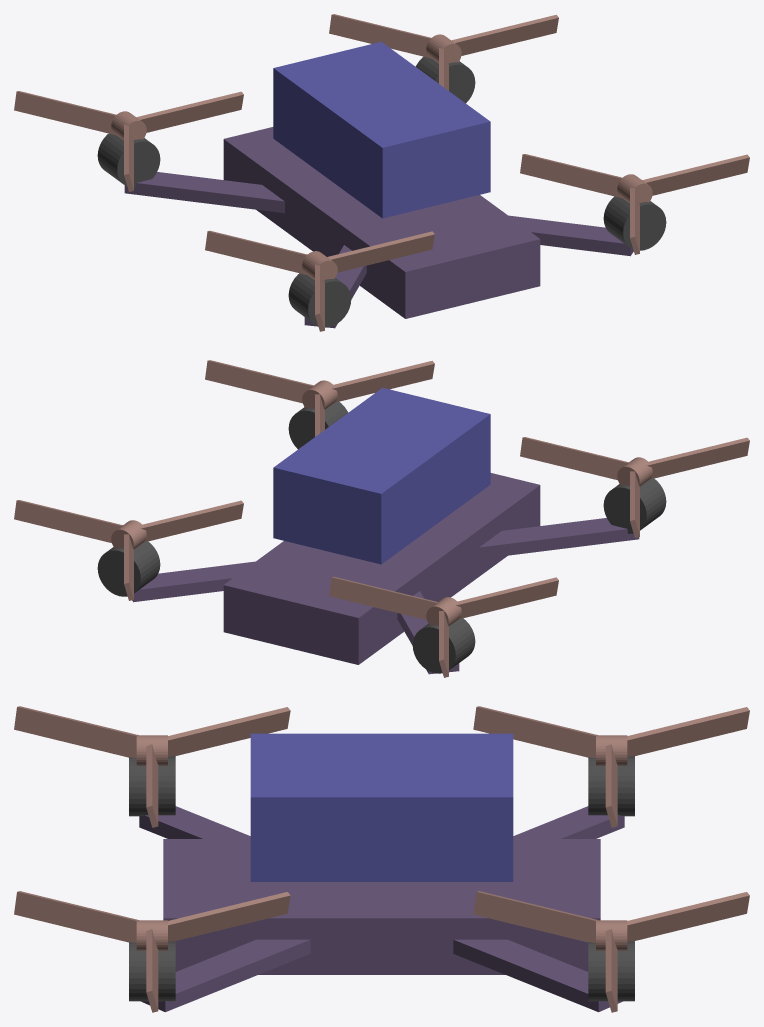
The model's file is Slicer SR5.glb.
3 renders of one model, top to bottom at view 1: azimuth 30°, elevation 25°; view 2: azimuth 150°, elevation 25°; view 3: azimuth 270°, elevation 25°, orthographic. The views are drawn at different scales.
Parts seen in each view (by area): view 1: battery, frame_body, prop_3, prop_0, prop_2, prop_1, arm_3, arm_0, motor_0, motor_2, motor_3, motor_1 (+1 smaller); view 2: battery, frame_body, prop_2, prop_3, prop_1, prop_0, arm_2, arm_1, motor_1, motor_3, motor_2, motor_0 (+1 smaller); view 3: battery, frame_body, prop_0, prop_1, prop_2, prop_3, arm_1, arm_0, motor_1, motor_0, arm_3, arm_2 (+2 smaller).
Boxes of the visible parts, <box> form: battery: <box>273,41,490,218</box>; frame_body: <box>223,127,540,318</box>; prop_3: <box>14,91,243,191</box>; prop_0: <box>520,154,749,254</box>; prop_2: <box>205,230,434,331</box>; prop_1: <box>329,14,558,90</box>; arm_3: <box>124,172,284,213</box>; arm_0: <box>509,215,633,256</box>; motor_0: <box>603,196,666,250</box>; motor_2: <box>288,273,351,327</box>; motor_3: <box>97,133,160,187</box>; motor_1: <box>415,56,475,103</box>; battery: <box>273,387,490,564</box>; frame_body: <box>223,473,540,664</box>; prop_2: <box>520,437,749,537</box>; prop_3: <box>329,576,558,677</box>; prop_1: <box>14,500,243,600</box>; prop_0: <box>205,360,434,436</box>; arm_2: <box>479,518,639,559</box>; arm_1: <box>132,561,254,602</box>; motor_1: <box>97,541,160,596</box>; motor_3: <box>412,618,475,673</box>; motor_2: <box>603,478,666,533</box>; motor_0: <box>288,402,348,449</box>; battery: <box>250,733,513,881</box>; frame_body: <box>163,839,600,974</box>; prop_0: <box>14,891,290,1012</box>; prop_1: <box>473,891,749,1012</box>; prop_2: <box>14,706,290,827</box>; prop_3: <box>473,706,749,827</box>; arm_1: <box>453,939,622,1012</box>; arm_0: <box>141,939,310,1012</box>; motor_1: <box>588,941,634,1001</box>; motor_0: <box>129,941,175,1001</box>; arm_3: <box>513,806,624,838</box>; arm_2: <box>139,806,250,838</box>.
Size of the model in its own units: 0.2167 by 0.06 by 0.2355.
